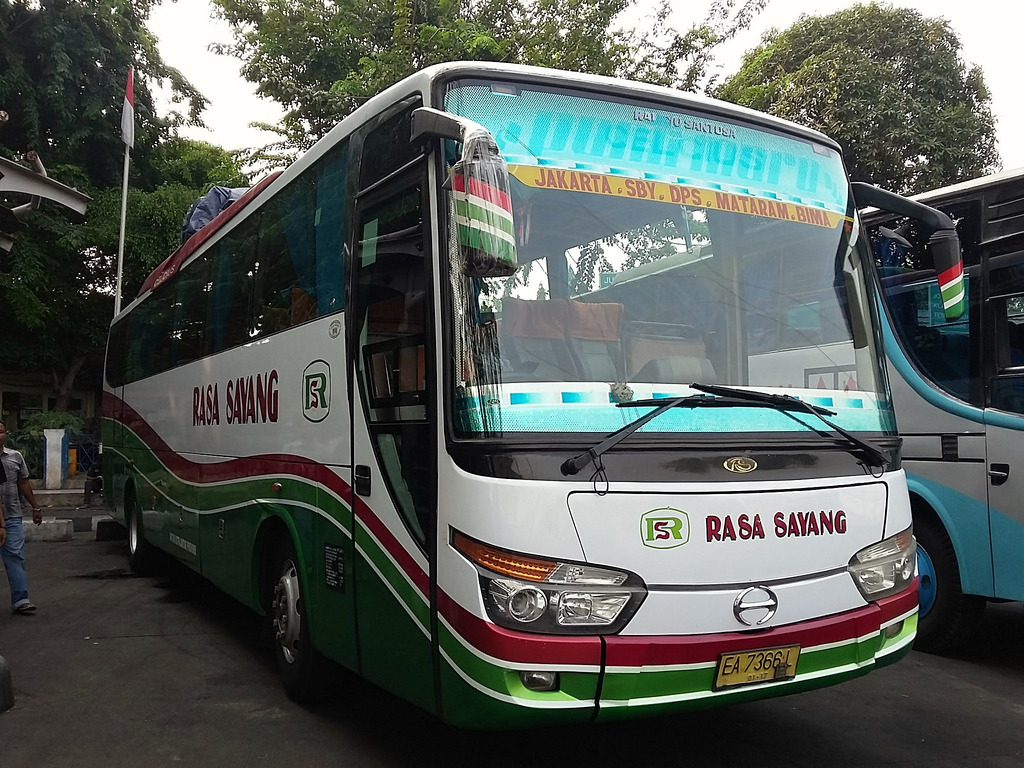plate: (718, 645, 800, 688)
